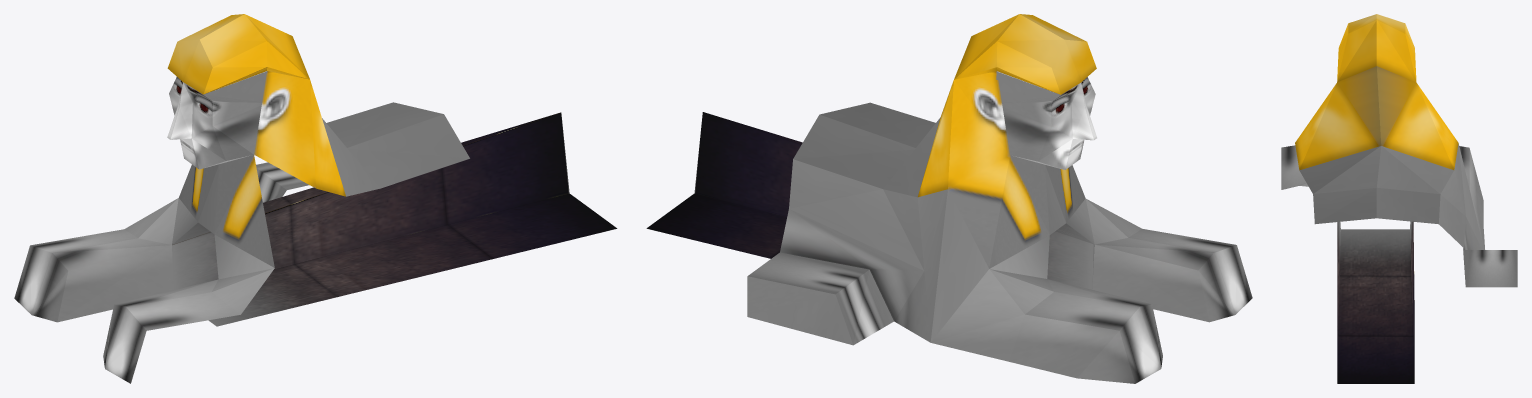
Rendered from SPHINX2.glb.
The picture shows the model from 3 angles, left to right: view 1: azimuth 30°, elevation 25°; view 2: azimuth 150°, elevation 25°; view 3: azimuth 270°, elevation 25°; orthographic projection. The views are drawn at different scales.
Parts seen in each view (by area): view 1: SPHINX2; view 2: SPHINX2; view 3: SPHINX2.
Boxes of the visible parts, x1,y1,x2,y2 form: SPHINX2: (14, 14, 617, 383); SPHINX2: (646, 14, 1252, 383); SPHINX2: (1281, 14, 1517, 383).
Size of the model in its own units: 3326 by 1725 by 1608.
Materials: 2 (2 with a texture image).
